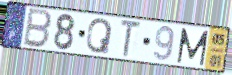8: (52, 13, 77, 52)
9: (152, 24, 177, 63)
B: (21, 6, 54, 50)
M: (175, 27, 210, 67)
Q: (85, 17, 114, 55)
T: (119, 18, 142, 59)
